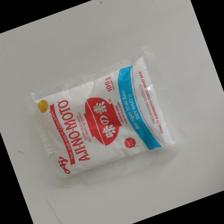Ajinomoto: (29, 54, 181, 174)
